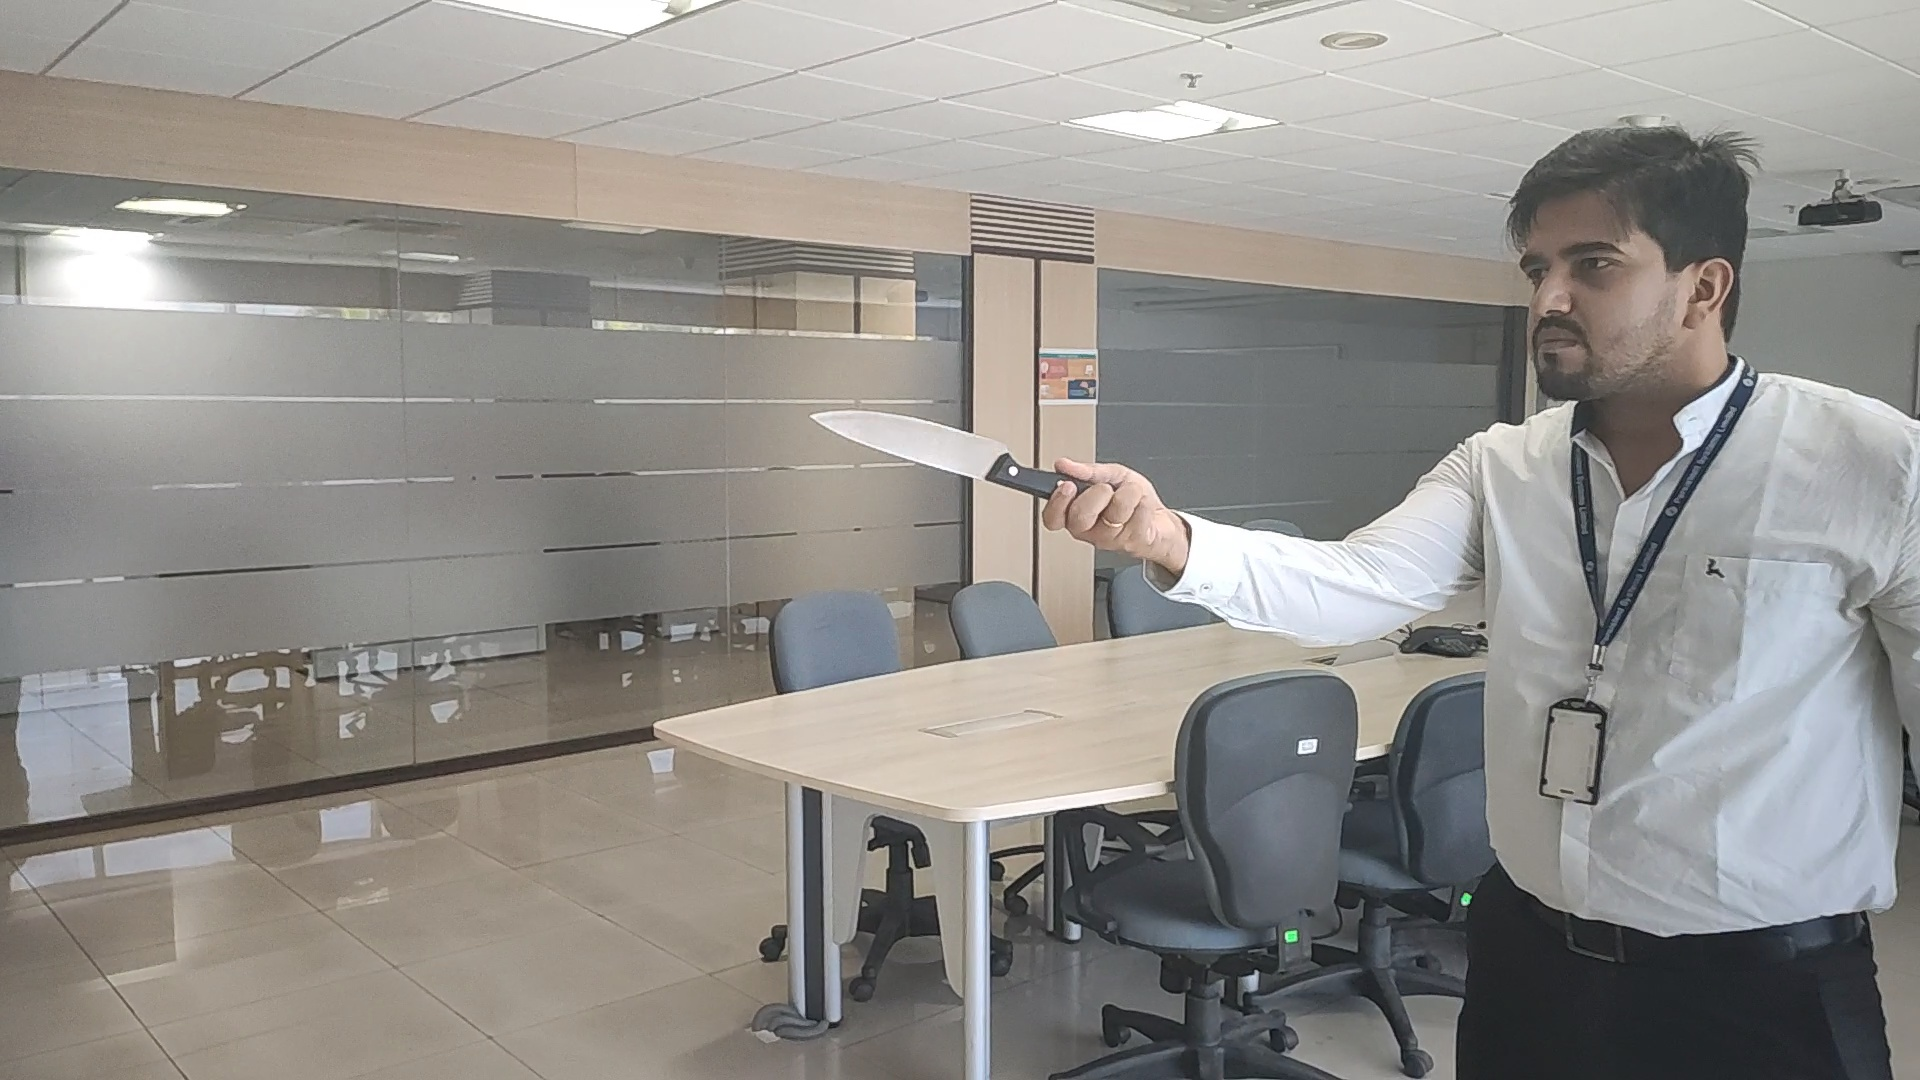knife: (808, 405, 1056, 495)
